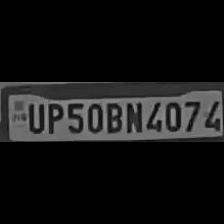0: (84, 101, 104, 133), (162, 98, 180, 132)
4: (200, 96, 222, 130), (144, 98, 162, 132)
5: (64, 100, 84, 134)
7: (181, 98, 199, 132)
B: (104, 100, 122, 132)
N: (122, 100, 142, 132)
P: (44, 100, 64, 134)
U: (24, 101, 44, 133)
